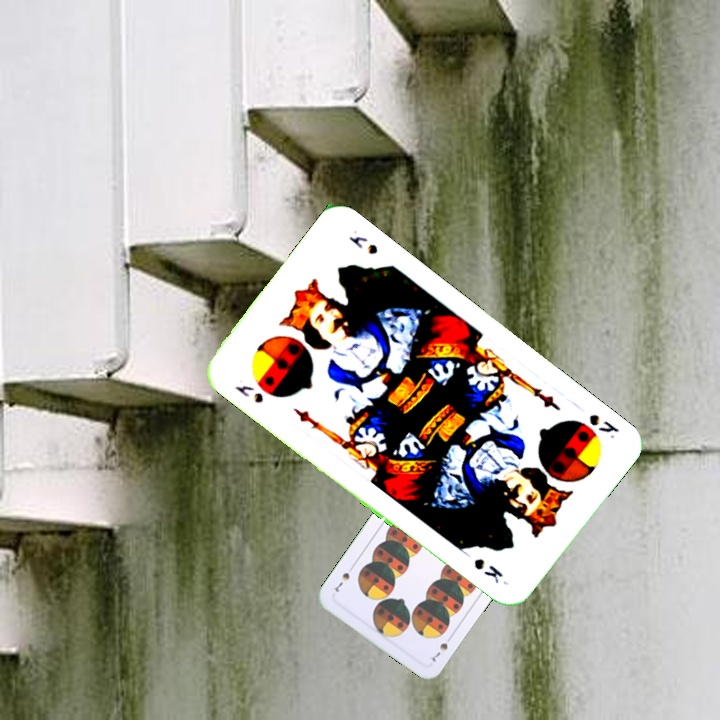S7: (425, 631, 455, 666)
SK: (585, 410, 622, 442), (231, 381, 266, 406)
